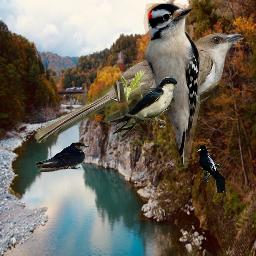Crow: (197, 145, 225, 193)
Cuckoo: (33, 31, 243, 143)
Swallow: (107, 77, 178, 138), (35, 142, 90, 172)
Woodpecker: (141, 3, 200, 168)
